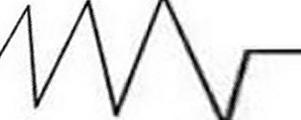resistor: (2, 0, 269, 116)
